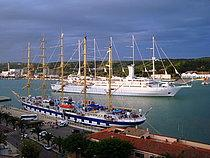Ship: (46, 37, 193, 99), (15, 91, 155, 132)
